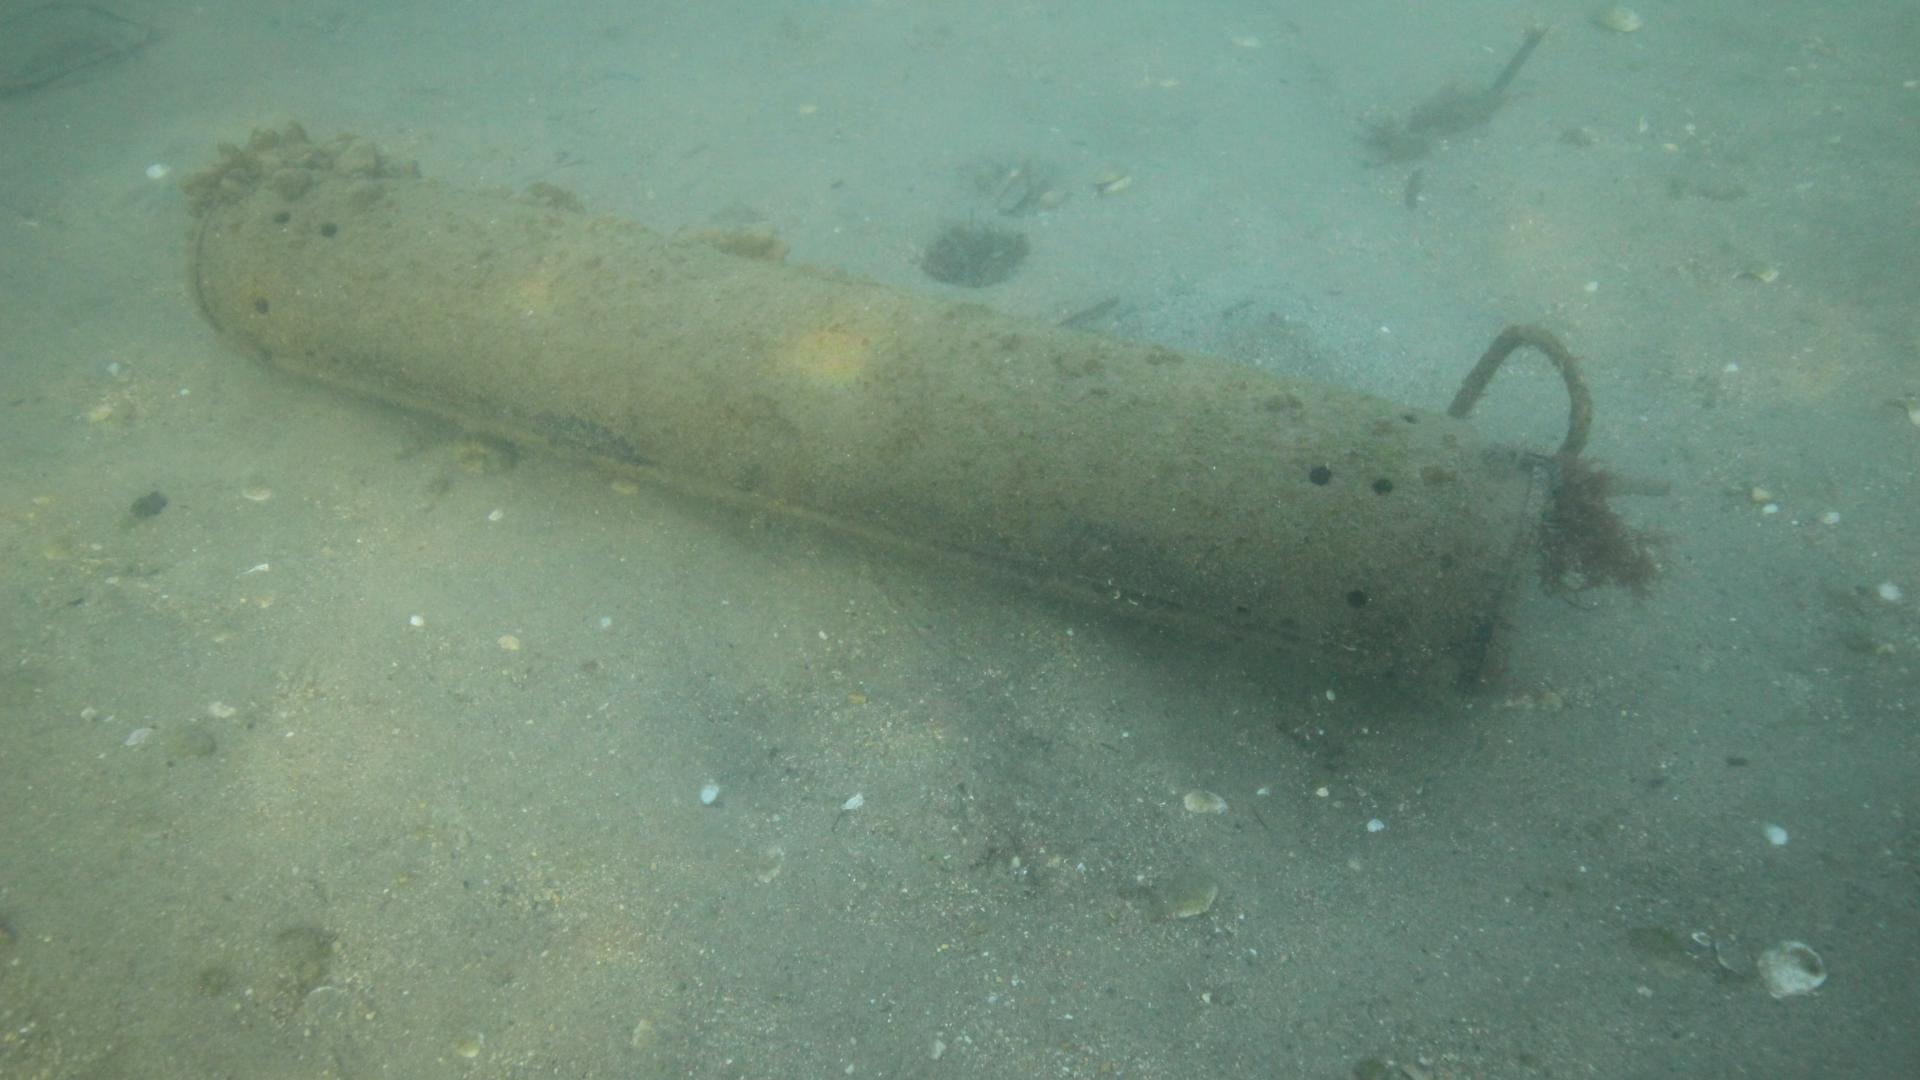eel fish trap: (182, 113, 1594, 690)
rope: (1443, 323, 1592, 460)
